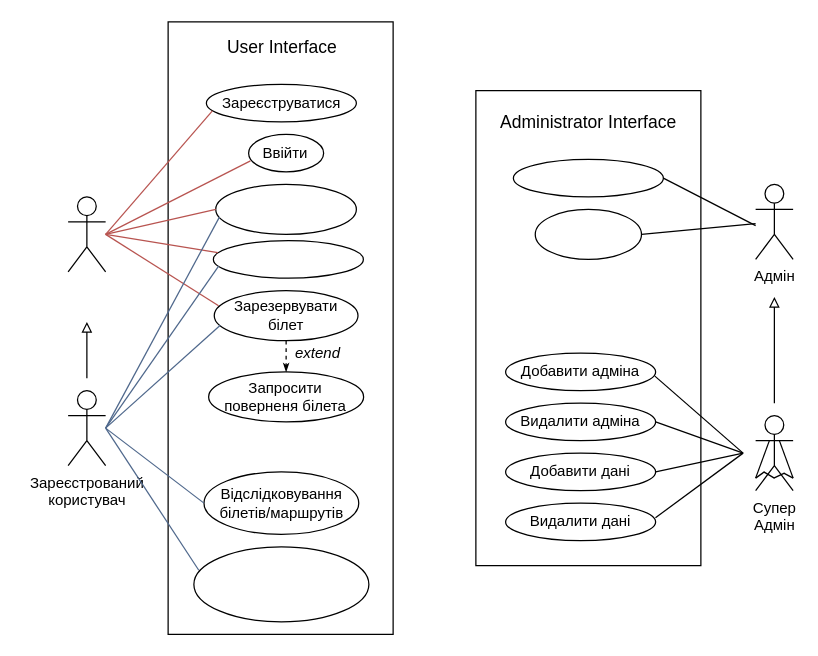
This 818x656 diagram has some shape labels left out. Each missing label, with the box of its shape:
Ввійти (як адмін): (534, 208, 642, 259)
Задати питання: (212, 239, 363, 278)
Знайти маршрут/білет: (214, 183, 356, 234)
Незареєстрований користувач: (67, 196, 106, 272)
Редагувати дані: (512, 158, 663, 197)
Редактувати акаунт (особисті дані, платіжні засоби): (193, 546, 369, 622)
